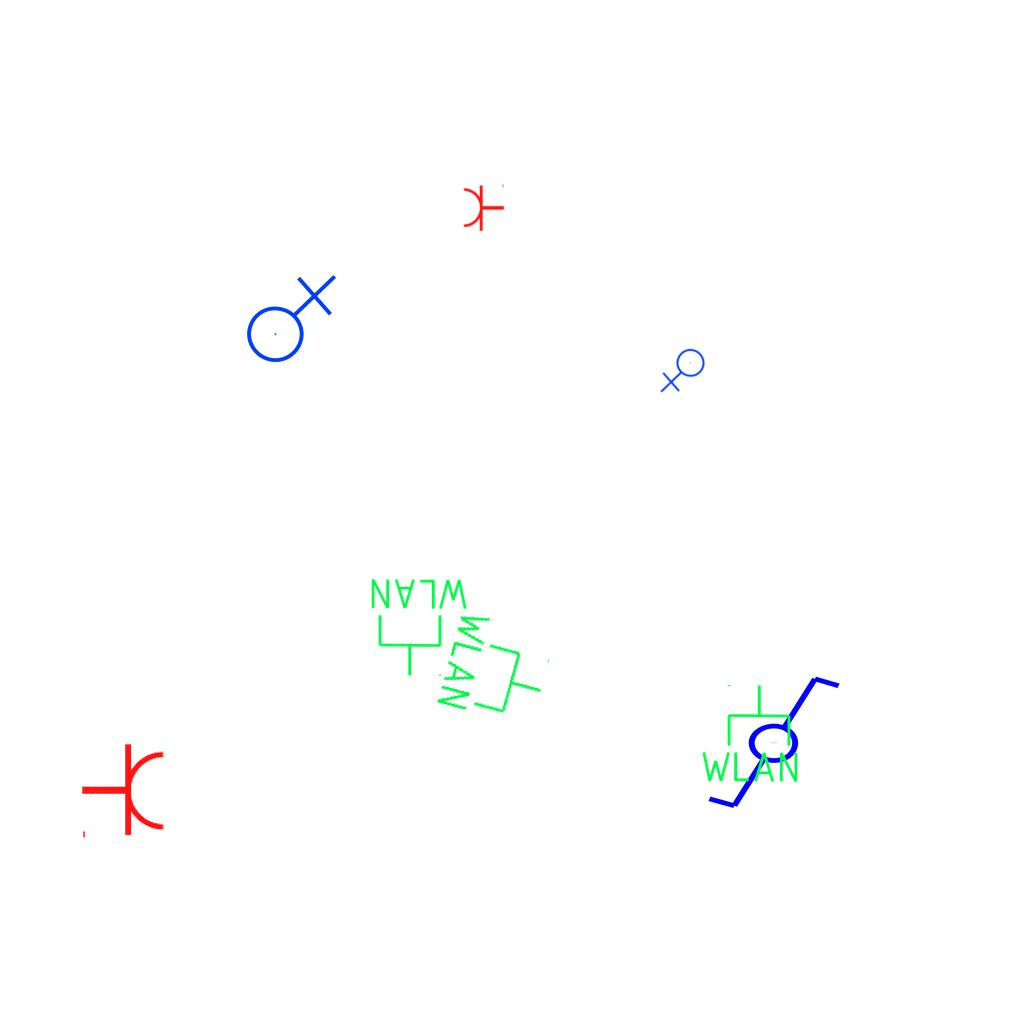Elektroanschluss_allgemein_230V_Geraeteanschlussdose_230V: (238, 270, 337, 364), (660, 348, 709, 395)
Schukosteckdose_einfach: (80, 742, 167, 842), (462, 182, 505, 232)
WLAN: (432, 604, 560, 733), (367, 575, 472, 679), (697, 682, 802, 786)
Wechselschalter: (687, 669, 844, 813)
